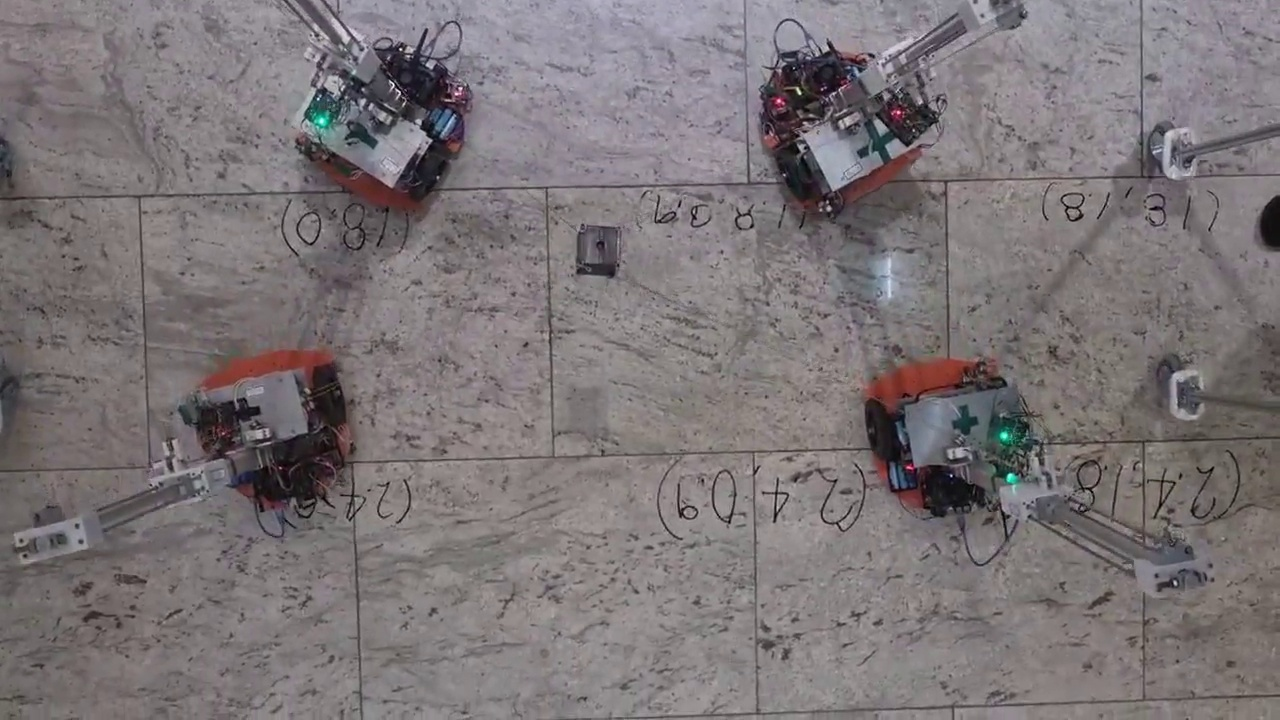e0: (580, 226, 619, 275)
r1: (866, 377, 1012, 461)
r2: (760, 81, 911, 202)
r3: (311, 91, 451, 197)
r4: (190, 366, 346, 469)
y_+_axis_vector: (753, 443, 1145, 451)
y_-_axis_vector: (352, 452, 754, 465)
